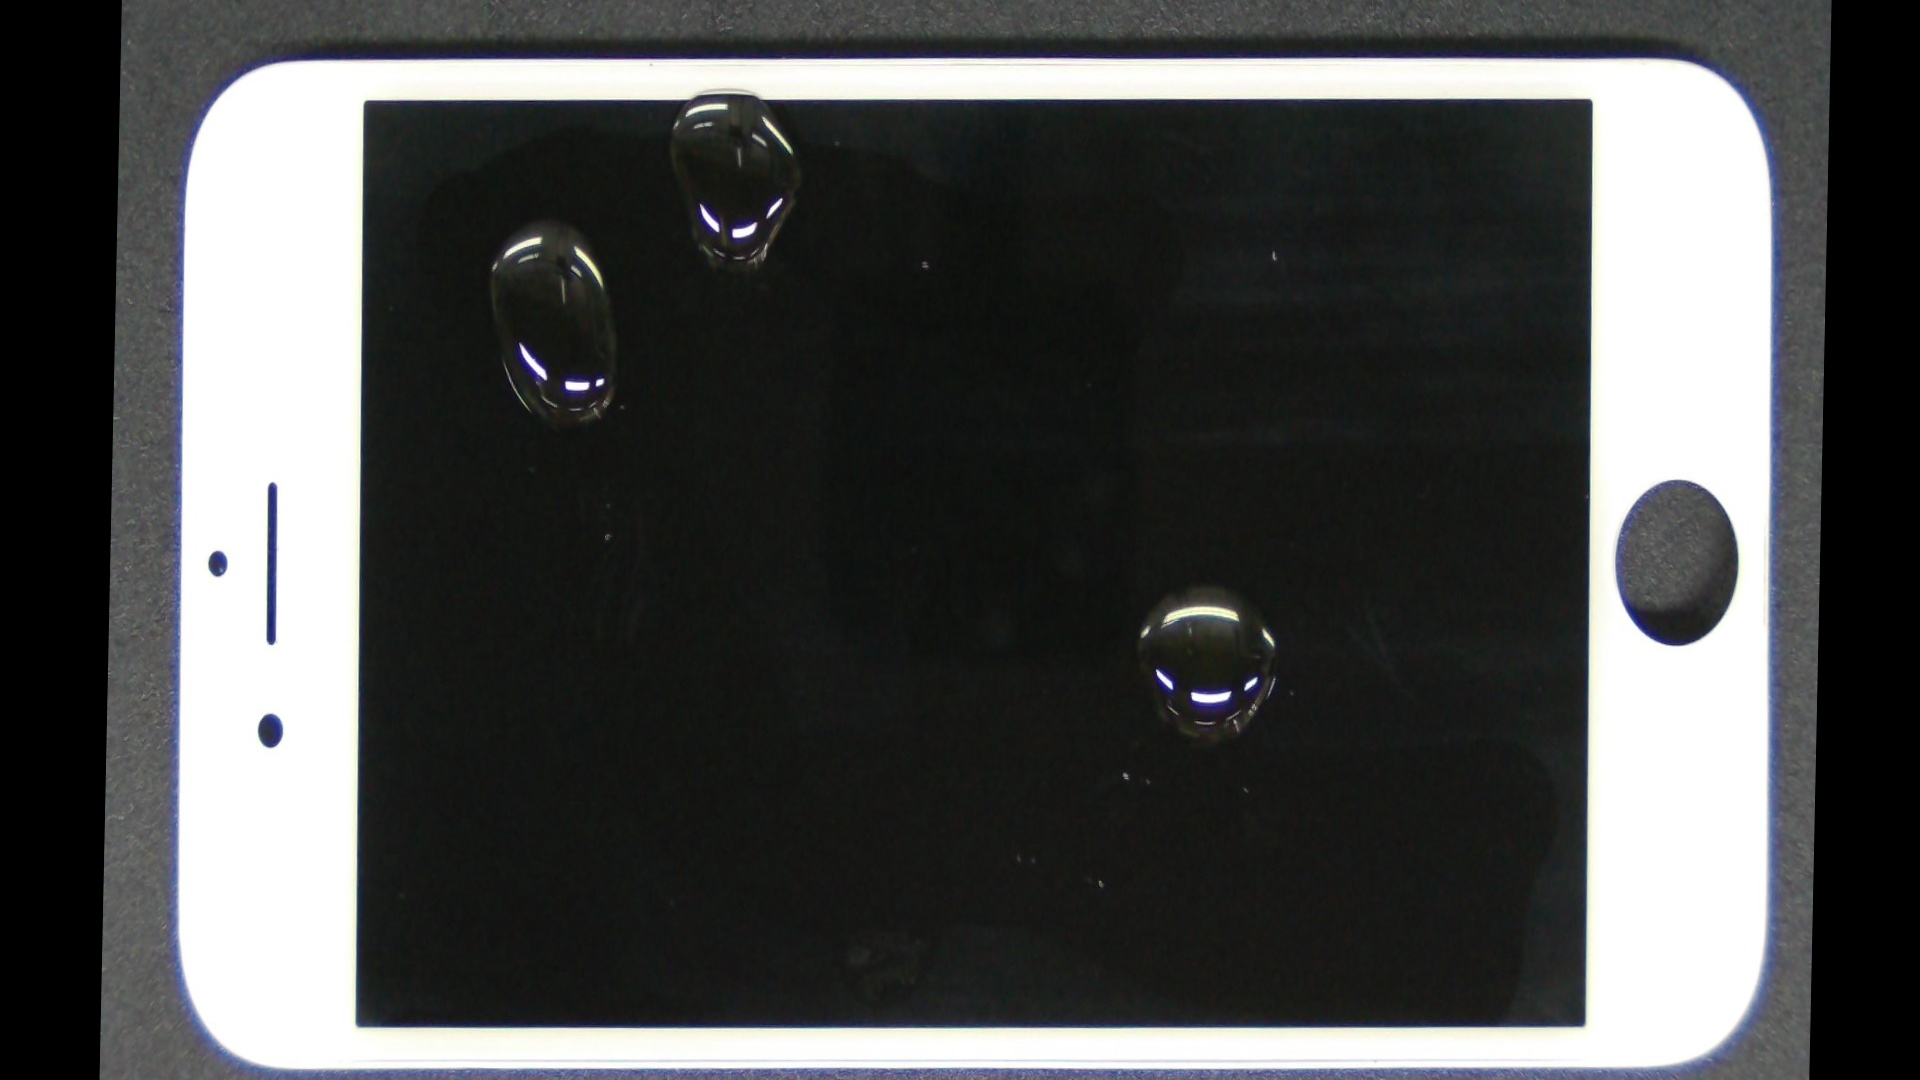oil: (649, 222, 1753, 948), (331, 37, 770, 396), (421, 0, 1030, 202)
